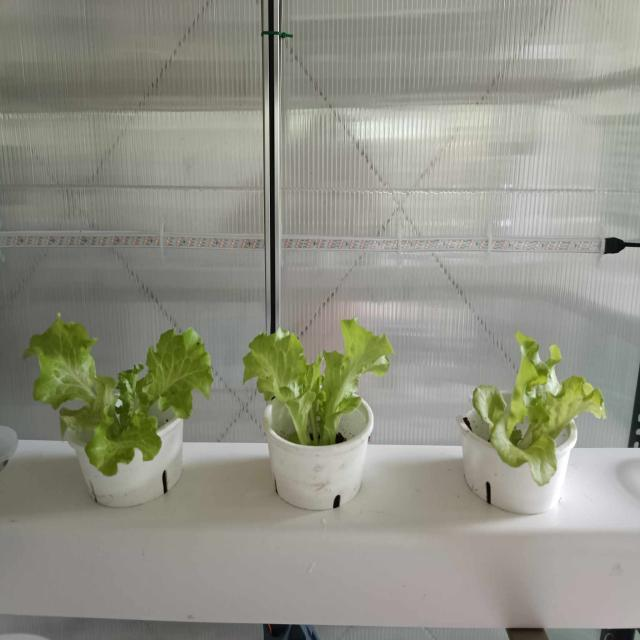Lettuce-Not-Ready-to-Harvest: (22, 316, 213, 478), (462, 333, 606, 485), (242, 319, 395, 446)
